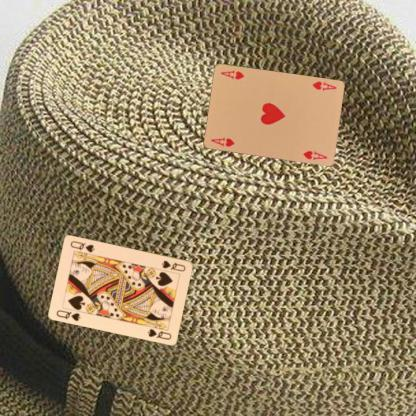Ah: (310, 78, 337, 92), (208, 135, 236, 148)
Qs: (54, 307, 82, 322), (160, 258, 186, 272)
